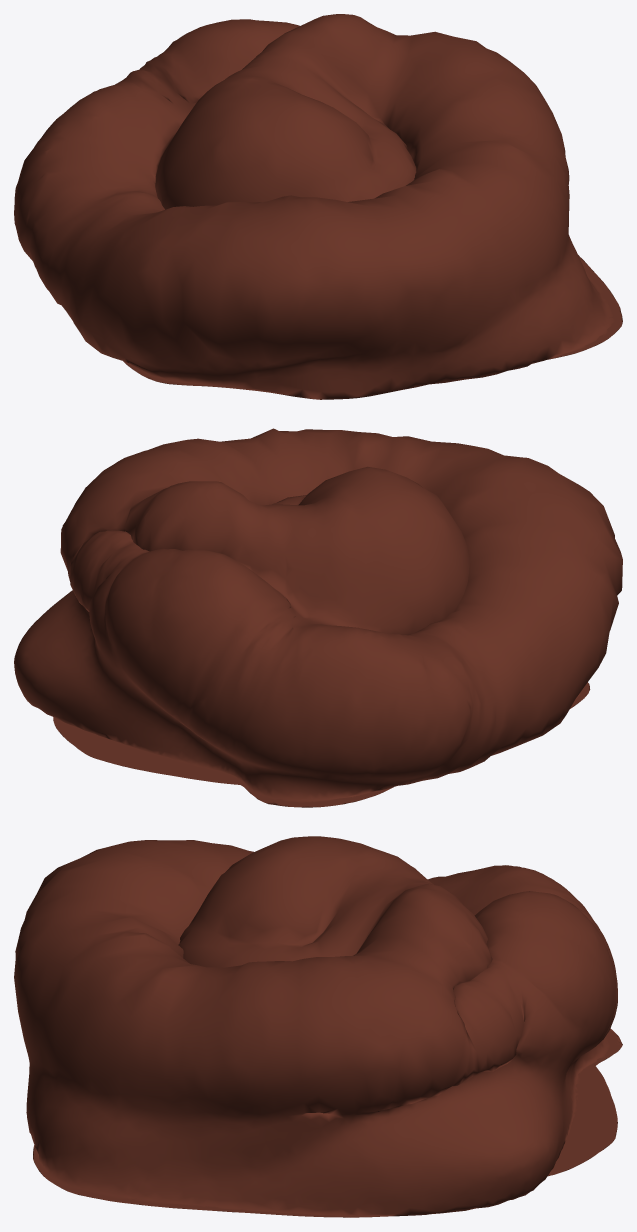
File: poop4.fbx
The picture shows the model from 3 angles, top to bottom: view 1: azimuth 30°, elevation 25°; view 2: azimuth 150°, elevation 25°; view 3: azimuth 270°, elevation 25°; orthographic projection. The views are drawn at different scales.
Visible parts, largest first — view 1: poop4; view 2: poop4; view 3: poop4.
Boxes of the visible parts, x1=… form: poop4: x1=14, y1=14, x2=622, y2=399; poop4: x1=14, y1=428, x2=622, y2=807; poop4: x1=14, y1=836, x2=622, y2=1217.
Size of the model in its own units: 103 by 44.04 by 105.
